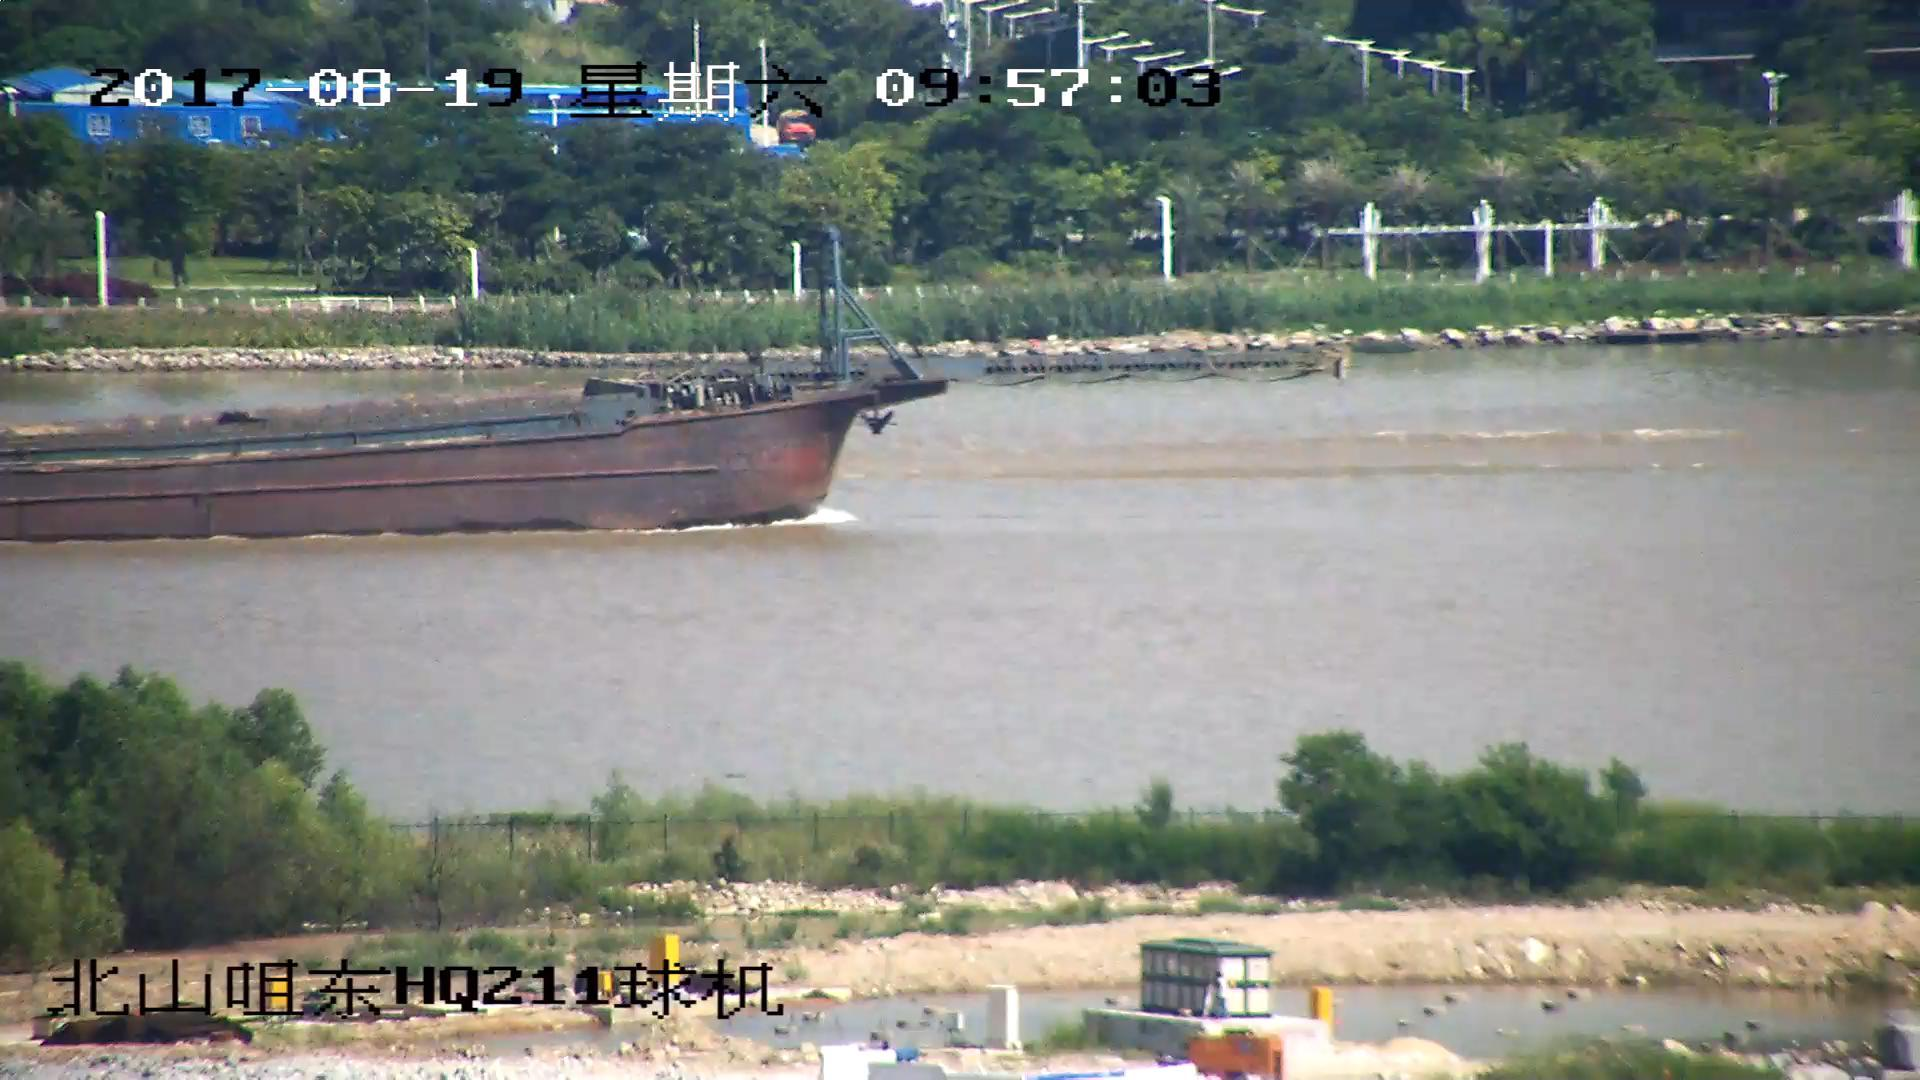Ship: (3, 235, 1298, 549)
